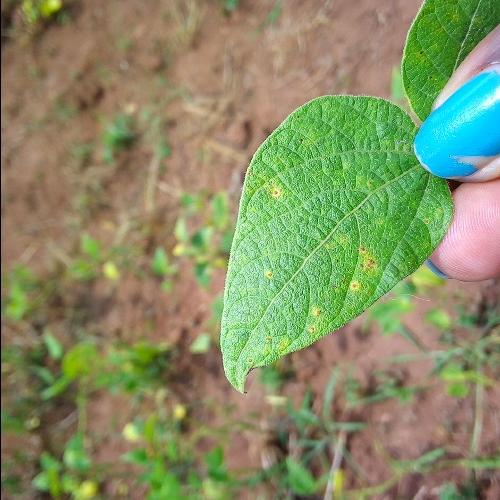hawar: (334, 239, 398, 313), (257, 265, 297, 298), (259, 181, 300, 206)
